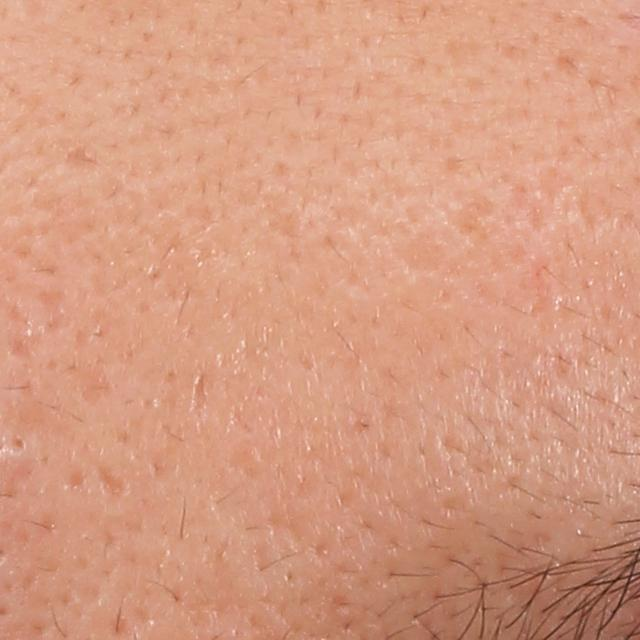atrophic_scar: (390, 227, 456, 284), (64, 352, 114, 403), (185, 364, 208, 421)
comedo: (11, 432, 32, 455)
